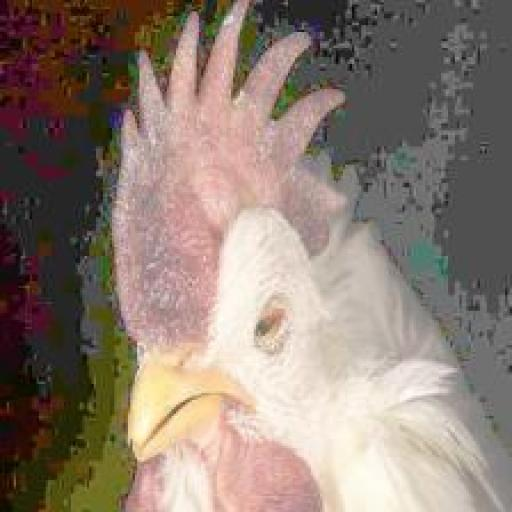disease: (82, 15, 349, 384)
